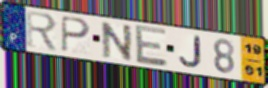8: (212, 38, 236, 75)
E: (133, 23, 169, 68)
J: (178, 34, 204, 70)
N: (99, 21, 134, 64)
P: (59, 14, 92, 54)
R: (25, 9, 60, 54)
